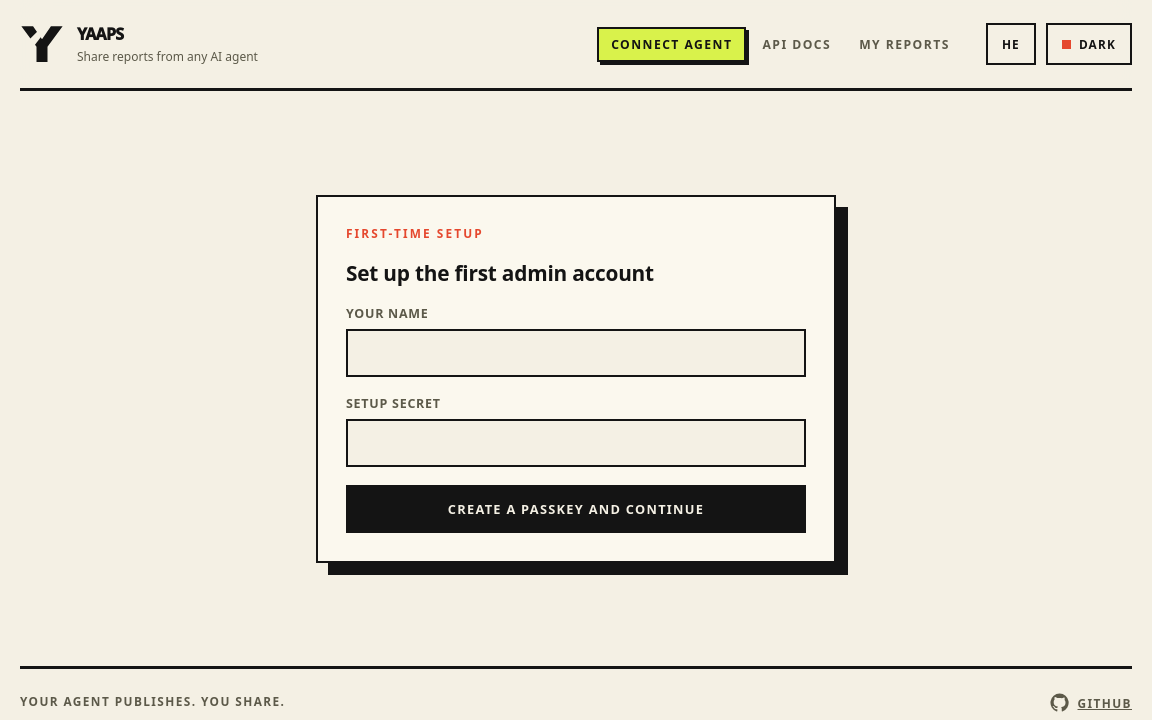
Scenario: dashboard foundation › completes the first-administrator passkey flow and shows recovery codes
The image size is (1152, 720).
Expected: the heading "Set up the first admin account" is shown, [346,259,654,287]
Type "Admin" into the field labelled "Your name" at point(576, 353), box [346,329,806,377]
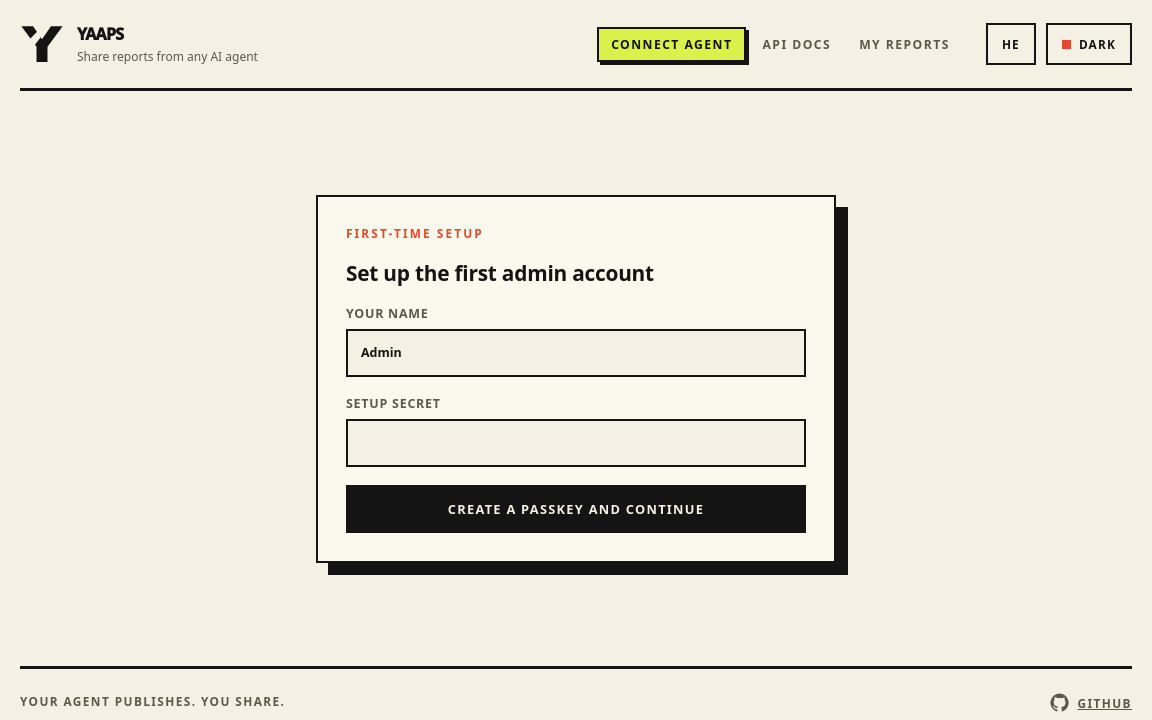
Type "bootstrap-secret" into the password field labelled "Setup secret" at point(576, 443), box [346,419,806,467]
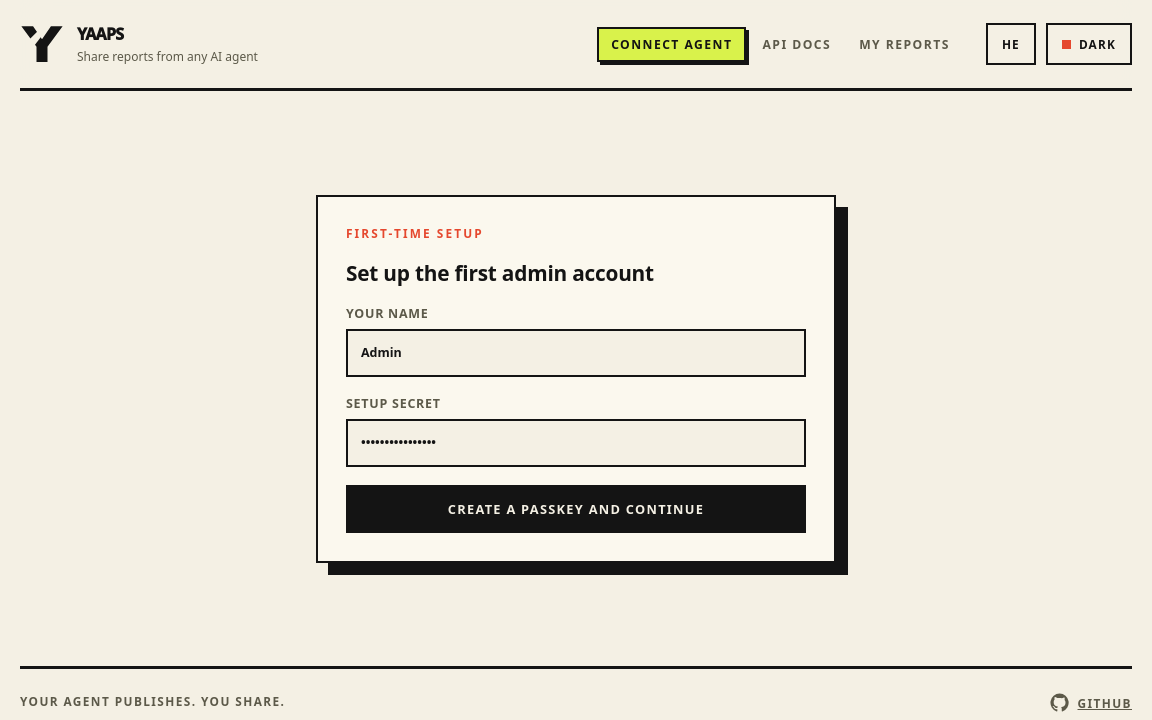
Click the button "Create a passkey and continue" at point(576, 509), box [346,485,806,533]
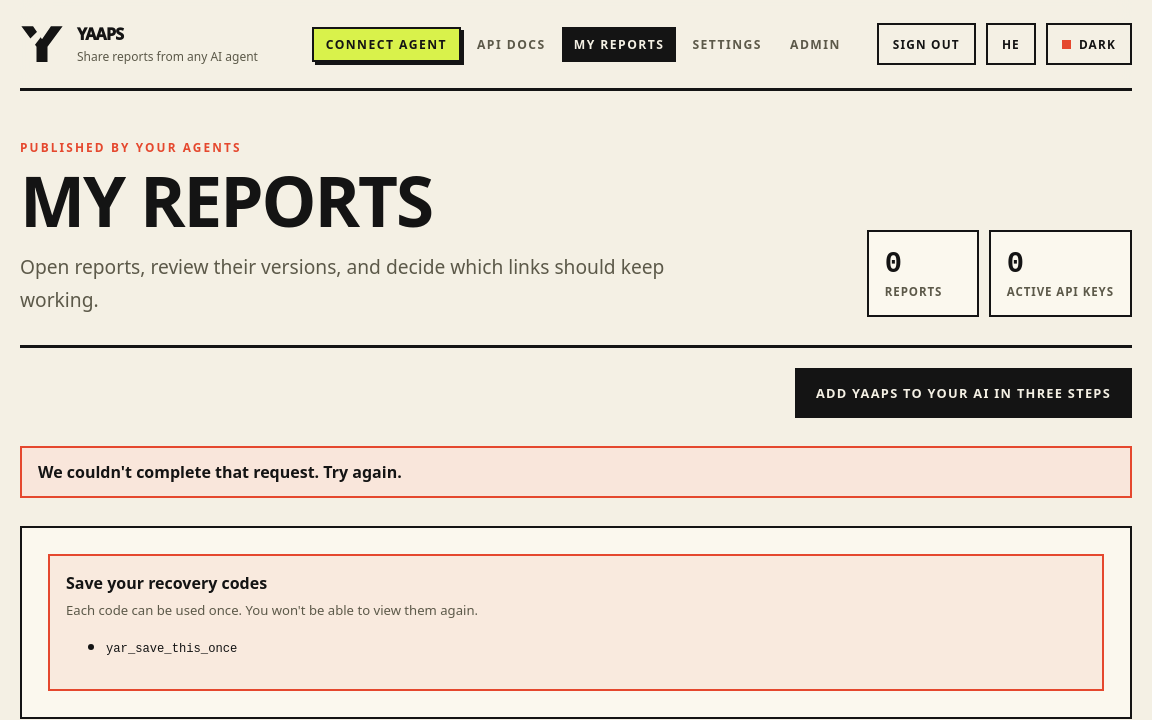
Expected: the text "yar_save_this_once" is shown, [106,642,237,656]
